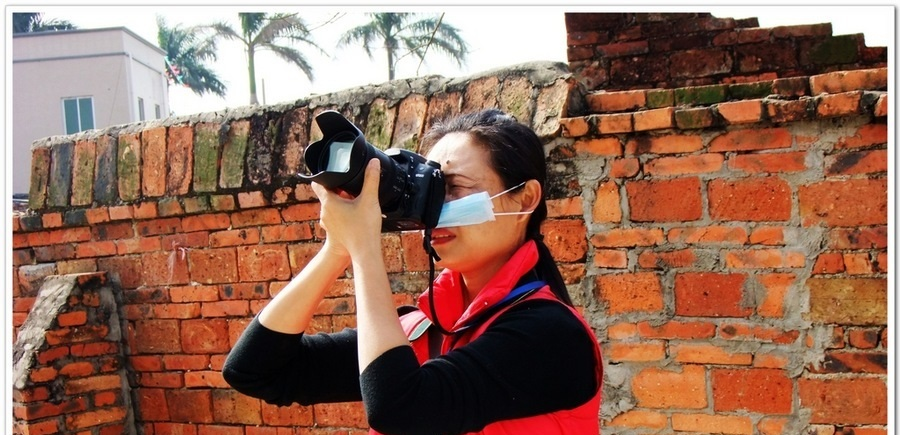face: (417, 134, 520, 264)
